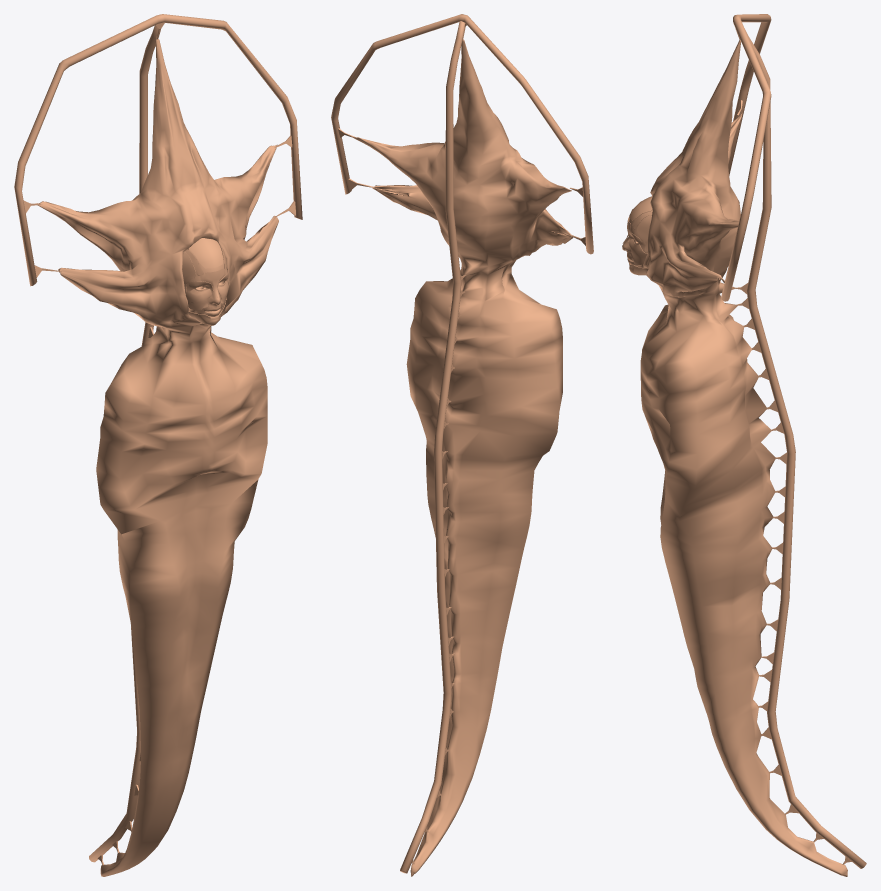
3 views of the same model, side by side, from view 1: azimuth 30°, elevation 25°; view 2: azimuth 150°, elevation 25°; view 3: azimuth 270°, elevation 25° (orthographic). The views are drawn at different scales.
Visible parts, largest first — view 1: PolySphere.001, mask.001; view 2: PolySphere.001; view 3: PolySphere.001, mask.001.
Part boxes in pixels (<box>): PolySphere.001: <box>14,14,302,876</box>; mask.001: <box>182,238,228,325</box>; PolySphere.001: <box>331,14,593,876</box>; PolySphere.001: <box>635,14,866,876</box>; mask.001: <box>622,196,652,275</box>.
Bounding box in the file's own units: 75.29 × 231 × 59.55.
